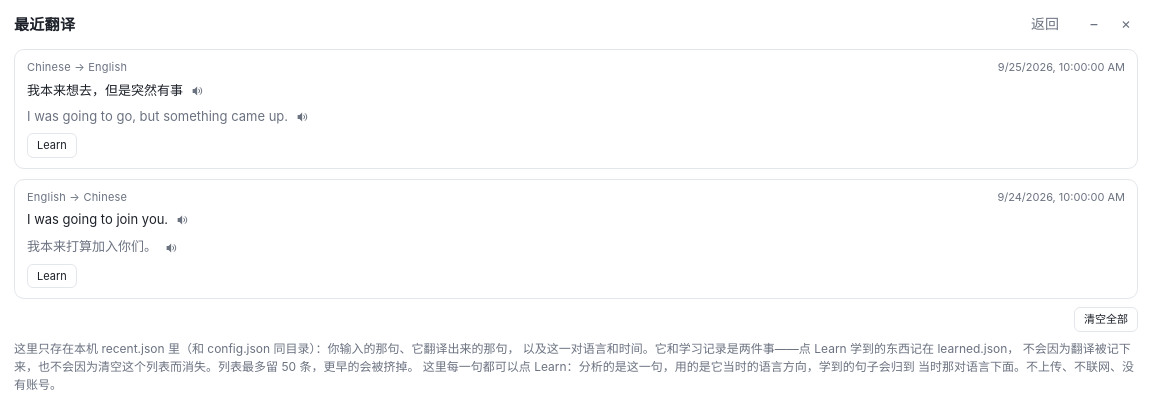
RecentTranslationsPage › empties the list in one press and reports what is left
This screenshot has width=1152, height=407.
Click the button "清空全部".
click(1106, 320)  # box [1074, 307, 1138, 332]
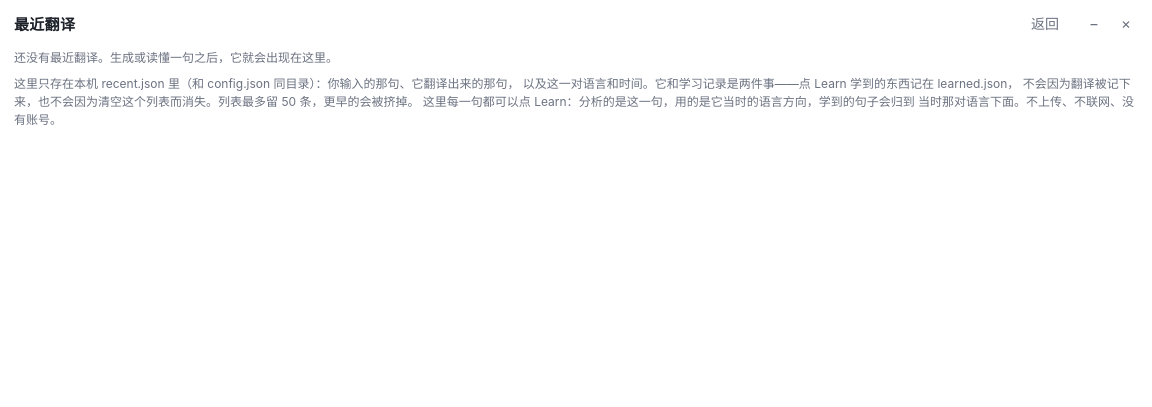
Expected: the text "还没有最近翻译。生成或读懂一句之后，它就会出现在这里。" is shown, [14, 50, 338, 65]
